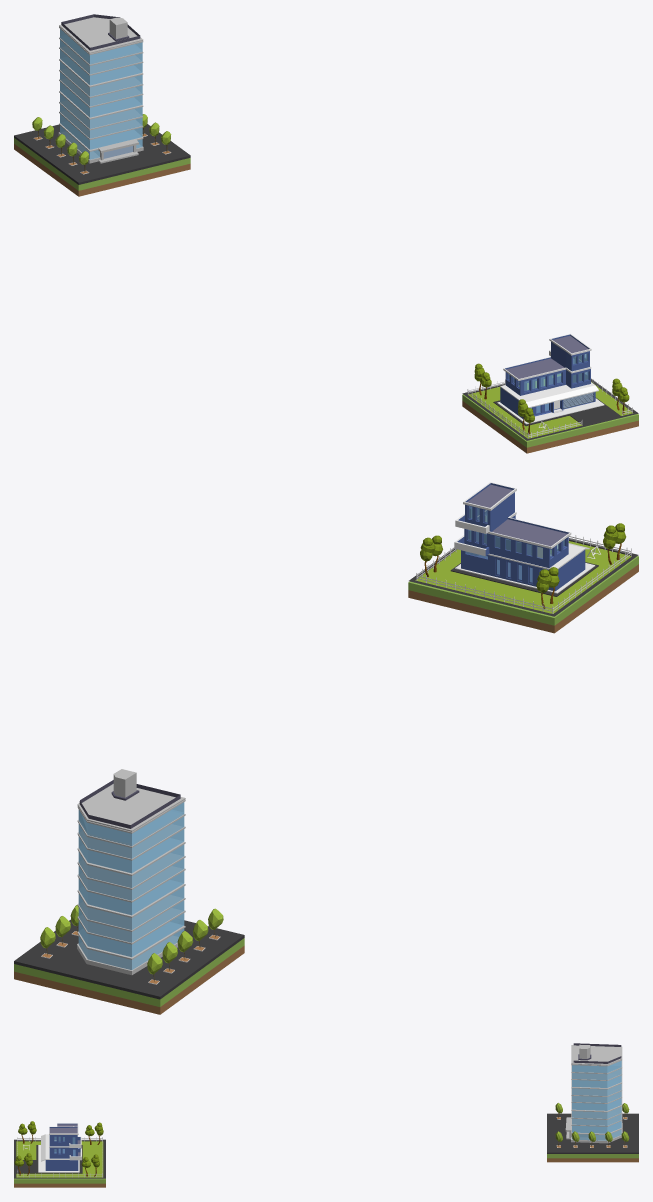
File: quad-small-tiles.dae
3 renders of one model, top to bottom at view 1: azimuth 30°, elevation 25°; view 2: azimuth 150°, elevation 25°; view 3: azimuth 270°, elevation 25°, orthographic. The views are drawn at different scales.
Parts seen in each view (by area): view 1: C_B_COMM_3_ITEM (×13), C_B_RES_7_ITEM (×7), C_B_RES_7_TILE (×2), C_B_COMM_3_TILE (×2); view 2: C_B_COMM_3_ITEM (×16), C_B_RES_7_ITEM (×7), C_B_RES_7_TILE (×2), C_B_COMM_3_TILE (×2); view 3: C_B_COMM_3_ITEM (×15), C_B_RES_7_ITEM (×7), C_B_RES_7_TILE (×2), C_B_COMM_3_TILE (×2).
Part boxes in pixels (x1,y1,x2,y2): C_B_COMM_3_ITEM (×13): [14, 17, 190, 184]; C_B_RES_7_ITEM (×7): [462, 342, 638, 440]; C_B_RES_7_TILE (×2): [462, 394, 638, 453]; C_B_COMM_3_TILE (×2): [14, 138, 190, 196]; C_B_COMM_3_ITEM (×16): [14, 780, 244, 999]; C_B_RES_7_ITEM (×7): [409, 492, 638, 616]; C_B_RES_7_TILE (×2): [408, 556, 638, 633]; C_B_COMM_3_TILE (×2): [14, 938, 244, 1014]; C_B_COMM_3_ITEM (×15): [547, 1043, 638, 1153]; C_B_RES_7_ITEM (×7): [14, 1123, 105, 1178]; C_B_RES_7_TILE (×2): [14, 1178, 105, 1187]; C_B_COMM_3_TILE (×2): [547, 1154, 638, 1162].
Bounding box in the file's own units: 64.97 × 268 × 47.09.
